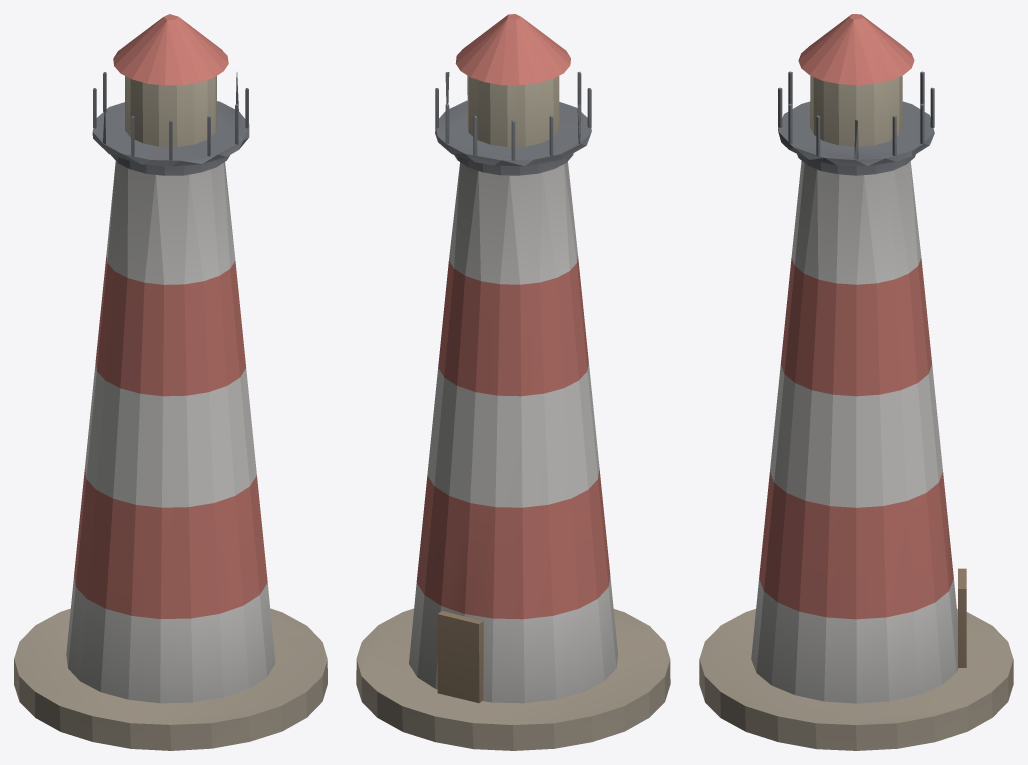
File: lighthouse_choseung_low.glb
3 views of the same model, side by side, from view 1: azimuth 30°, elevation 25°; view 2: azimuth 150°, elevation 25°; view 3: azimuth 270°, elevation 25° (orthographic).
Size of the model in its own units: 6.39 by 14.99 by 6.39.
